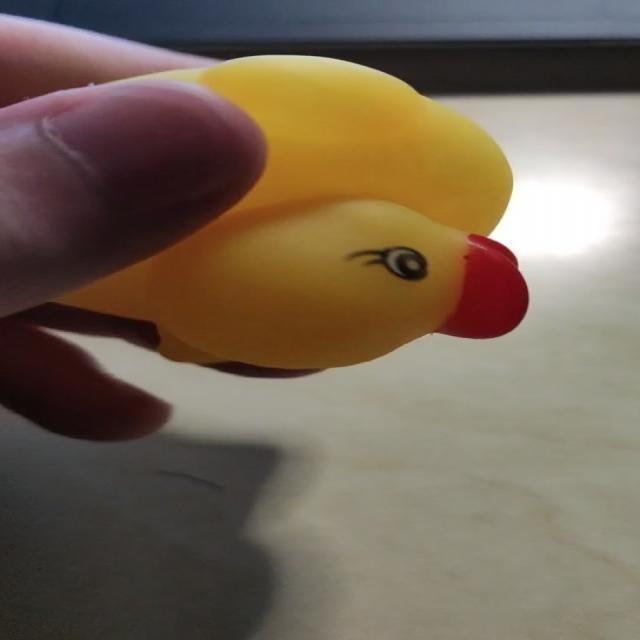rubber-duck: (58, 55, 526, 367)
